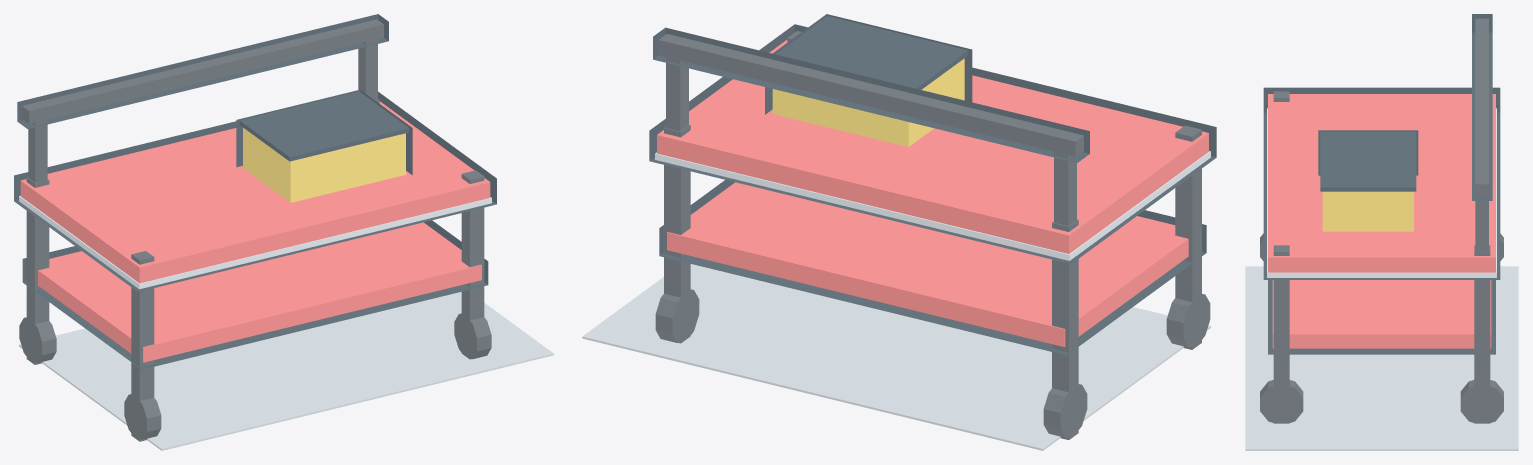
The model's file is utility-props.glb.
The picture shows the model from 3 angles, left to right: view 1: azimuth 30°, elevation 25°; view 2: azimuth 150°, elevation 25°; view 3: azimuth 270°, elevation 25°; orthographic projection. The views are drawn at different scales.
Parts seen in each view (by area): view 1: utility-cart; view 2: utility-cart; view 3: utility-cart.
Part boxes in pixels (<box>): utility-cart: <box>14,14,553,450</box>; utility-cart: <box>582,14,1216,450</box>; utility-cart: <box>1245,14,1518,450</box>.
Bounding box in the file's own units: 1.98 × 1.2 × 1.2.
